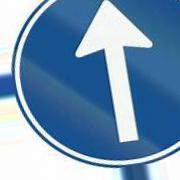forward: (13, 1, 180, 168)
